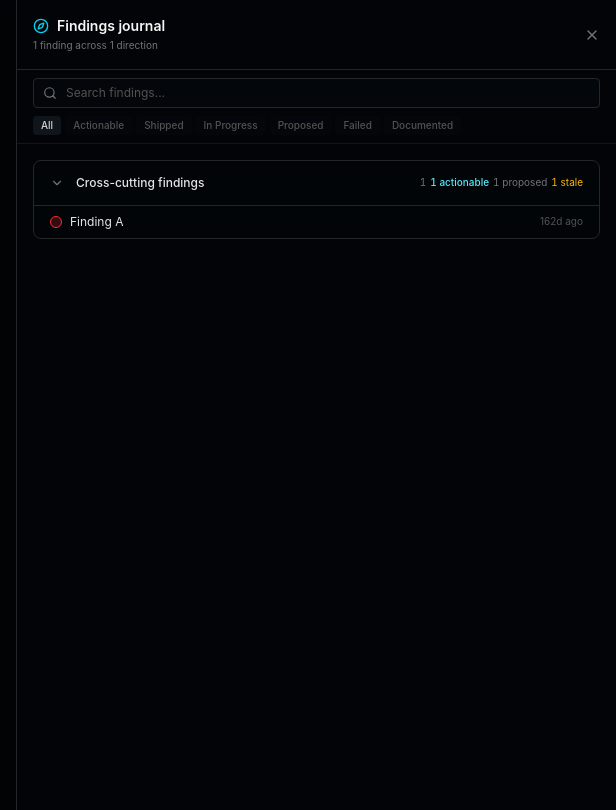
Scenario: ResearchBrowser evidence panel › renders claims with show-more toggle and source refs
The image size is (616, 810).
Click the text "Finding A".
click(97, 221)  # box [70,214,123,228]
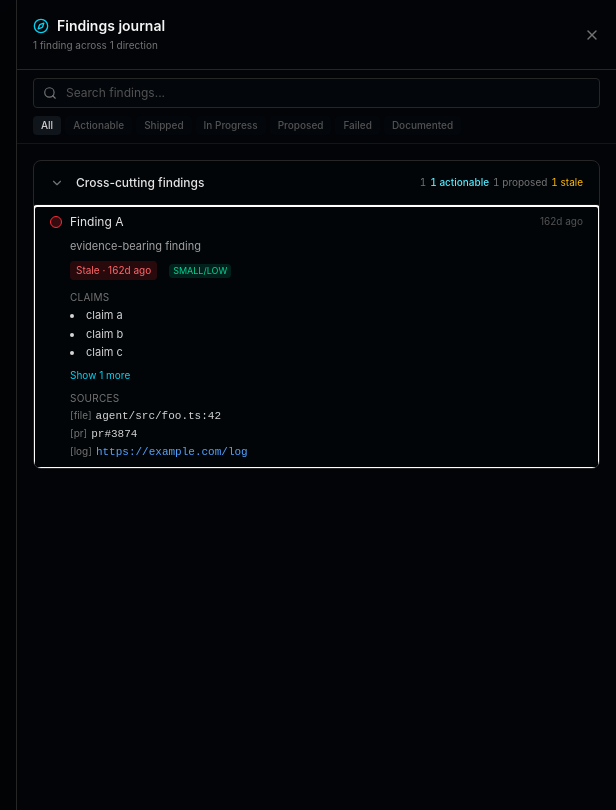
Expected: the list item "claim a" is shown, [86,308,123,322]
Expected: the list item "claim b" is shown, [86,327,123,341]
Expected: the list item "claim c" is shown, [86,345,123,359]
Click the button "Show 1 more".
click(100, 375)  # box [70,368,130,383]
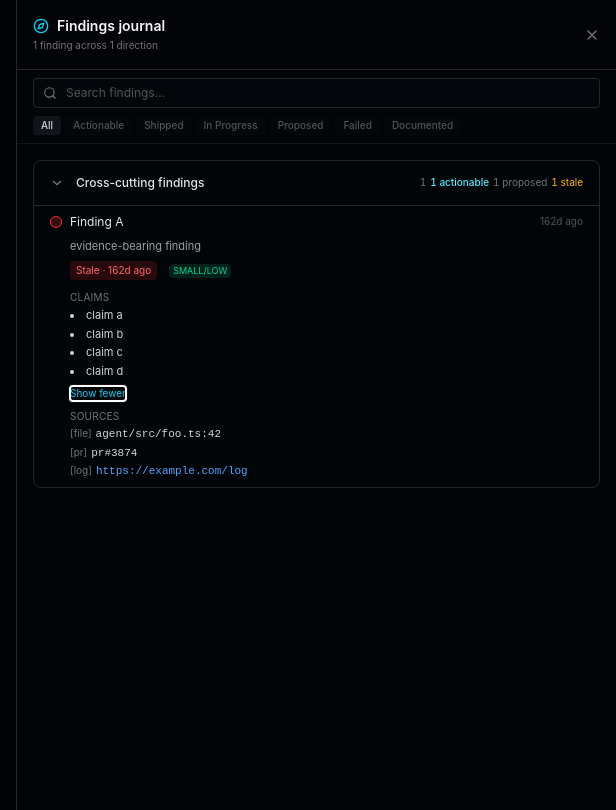
Expected: the text "pr#3874" is shown, [91,446,137,458]
Expected: the text "agent/src/foo.ts:42" is shown, [96,428,221,440]
Expected: the list item "claim d" is shown, [86,364,123,378]
